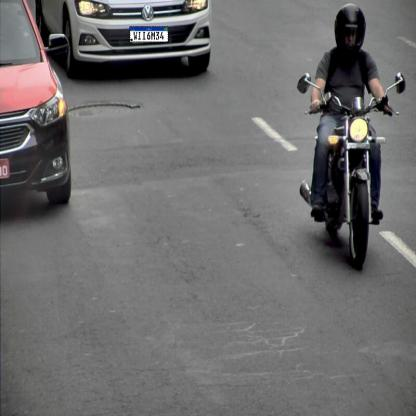PlacaM: (130, 26, 168, 42)
